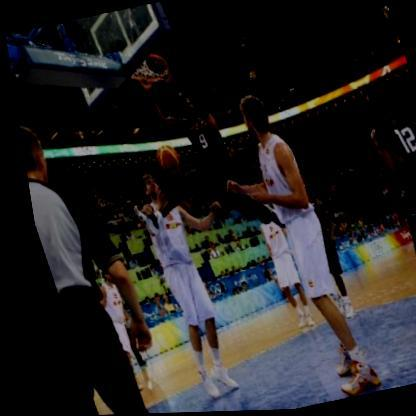basketball: (148, 143, 178, 175)
